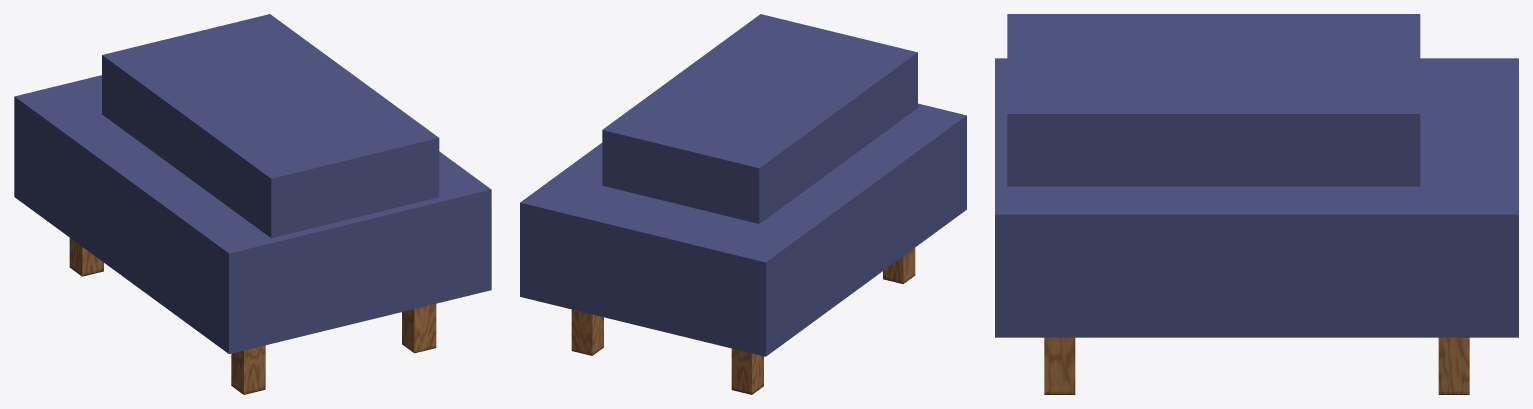
Rendered from Labtarto.obj.
3 renders of one model, left to right at view 1: azimuth 30°, elevation 25°; view 2: azimuth 150°, elevation 25°; view 3: azimuth 270°, elevation 25°, orthographic. The views are drawn at different scales.
Bounding box in the file's own units: 0.6 × 0.49 × 0.85.
Materials: 2 (1 with a texture image).
